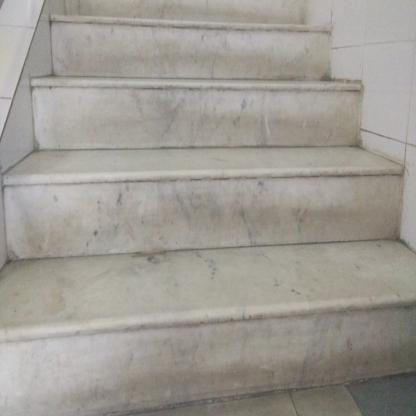stairs: (72, 50, 323, 416)
